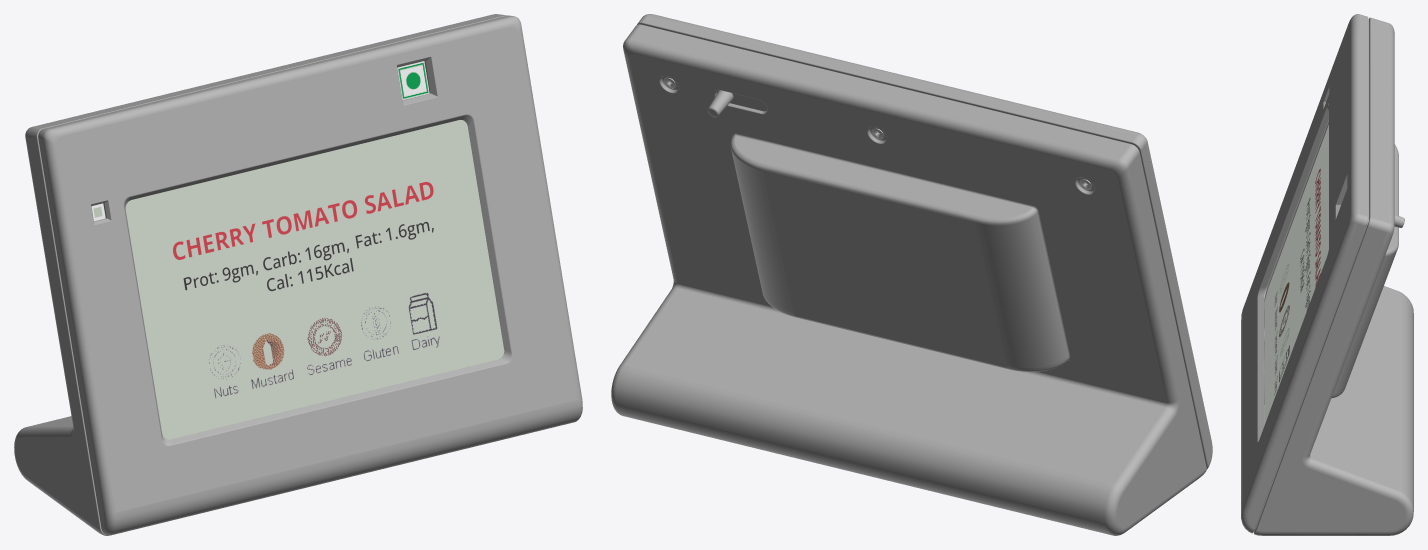
File: esl_white.glb
The picture shows the model from 3 angles, left to right: view 1: azimuth 30°, elevation 25°; view 2: azimuth 150°, elevation 25°; view 3: azimuth 270°, elevation 25°; orthographic projection. The views are drawn at different scales.
Parts seen in each view (by area): view 1: frame, glass, screen, screen_content, toggle_2; view 2: frame, toggle; view 3: frame, glass, screen, screen_content.
Part boxes in pixels (<box>): frame: <box>14,14,582,535</box>; glass: <box>126,120,503,439</box>; screen: <box>125,120,504,439</box>; screen_content: <box>173,181,439,398</box>; toggle_2: <box>397,61,429,99</box>; frame: <box>611,14,1212,535</box>; toggle: <box>707,90,767,117</box>; frame: <box>1241,14,1413,535</box>; glass: <box>1264,123,1328,424</box>; screen: <box>1264,125,1328,423</box>; screen_content: <box>1274,168,1320,394</box>.
Bounding box in the file's own units: 0.108 × 0.08 × 0.0384.
8 materials, 2 textured.
